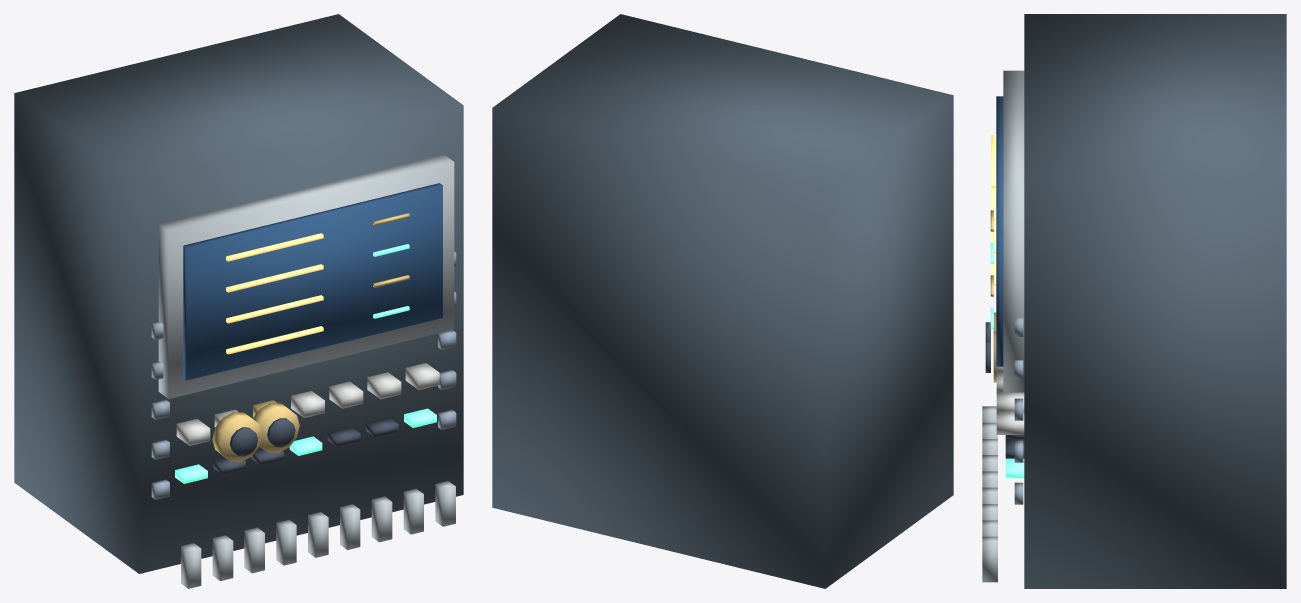
Rendered from 55_L84_SolarRadiationPressureTorqueModel.glb.
3 renders of one model, left to right at view 1: azimuth 30°, elevation 25°; view 2: azimuth 150°, elevation 25°; view 3: azimuth 270°, elevation 25°, orthographic. The views are drawn at different scales.
Parts seen in each view (by area): view 1: L84_SolarRadiationPressureTor_Part_0000, L84_SolarRadiationPressureTor_Part_0002, L84_SolarRadiationPressureTor_Part_0001, L84_SolarRadiationPressureTor_Part_0006, L84_SolarRadiationPressureTor_Part_0003, L84_SolarRadiationPressureTor_Part_0008, L84_SolarRadiationPressureTor_Part_0005, L84_SolarRadiationPressureTor_Part_0007, L84_SolarRadiationPressureTor_Part_0009, L84_SolarRadiationPressureTor_Part_0011, L84_SolarRadiationPressureTor_Part_0010, L84_SolarRadiationPressureTor_Part_0012; view 2: L84_SolarRadiationPressureTor_Part_0000; view 3: L84_SolarRadiationPressureTor_Part_0000, L84_SolarRadiationPressureTor_Part_0001, L84_SolarRadiationPressureTor_Part_0002, L84_SolarRadiationPressureTor_Part_0006, L84_SolarRadiationPressureTor_Part_0008, L84_SolarRadiationPressureTor_Part_0003, L84_SolarRadiationPressureTor_Part_0005.
Part boxes in pixels (x1=…): L84_SolarRadiationPressureTor_Part_0000: x1=14, y1=14, x2=463, y2=573; L84_SolarRadiationPressureTor_Part_0002: x1=183, y1=183, x2=442, y2=380; L84_SolarRadiationPressureTor_Part_0001: x1=158, y1=154, x2=455, y2=588; L84_SolarRadiationPressureTor_Part_0006: x1=176, y1=363, x2=439, y2=445; L84_SolarRadiationPressureTor_Part_0003: x1=226, y1=233, x2=323, y2=354; L84_SolarRadiationPressureTor_Part_0008: x1=151, y1=251, x2=456, y2=499; L84_SolarRadiationPressureTor_Part_0005: x1=175, y1=244, x2=436, y2=483; L84_SolarRadiationPressureTor_Part_0007: x1=213, y1=418, x2=398, y2=474; L84_SolarRadiationPressureTor_Part_0009: x1=212, y1=412, x2=261, y2=461; L84_SolarRadiationPressureTor_Part_0011: x1=252, y1=403, x2=299, y2=452; L84_SolarRadiationPressureTor_Part_0010: x1=229, y1=427, x2=258, y2=456; L84_SolarRadiationPressureTor_Part_0012: x1=267, y1=418, x2=295, y2=447; L84_SolarRadiationPressureTor_Part_0000: x1=492, y1=14, x2=953, y2=588; L84_SolarRadiationPressureTor_Part_0000: x1=1024, y1=14, x2=1286, y2=588; L84_SolarRadiationPressureTor_Part_0001: x1=982, y1=70, x2=1024, y2=582; L84_SolarRadiationPressureTor_Part_0002: x1=996, y1=96, x2=1003, y2=366; L84_SolarRadiationPressureTor_Part_0006: x1=996, y1=366, x2=1024, y2=434; L84_SolarRadiationPressureTor_Part_0008: x1=1014, y1=318, x2=1023, y2=504; L84_SolarRadiationPressureTor_Part_0003: x1=991, y1=135, x2=995, y2=285; L84_SolarRadiationPressureTor_Part_0005: x1=990, y1=242, x2=1024, y2=478.
Bounding box in the file's own units: 0.9996 × 1.17 × 0.7732.
